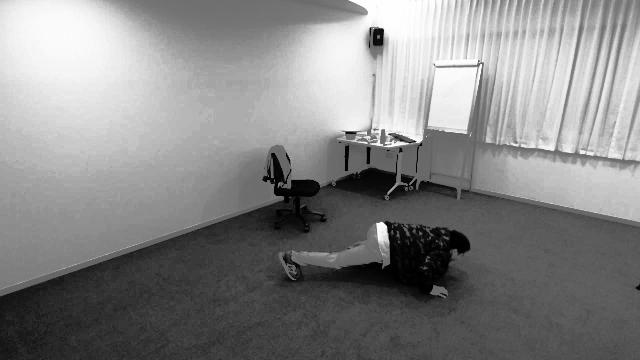jatuh: (280, 215, 476, 311)
